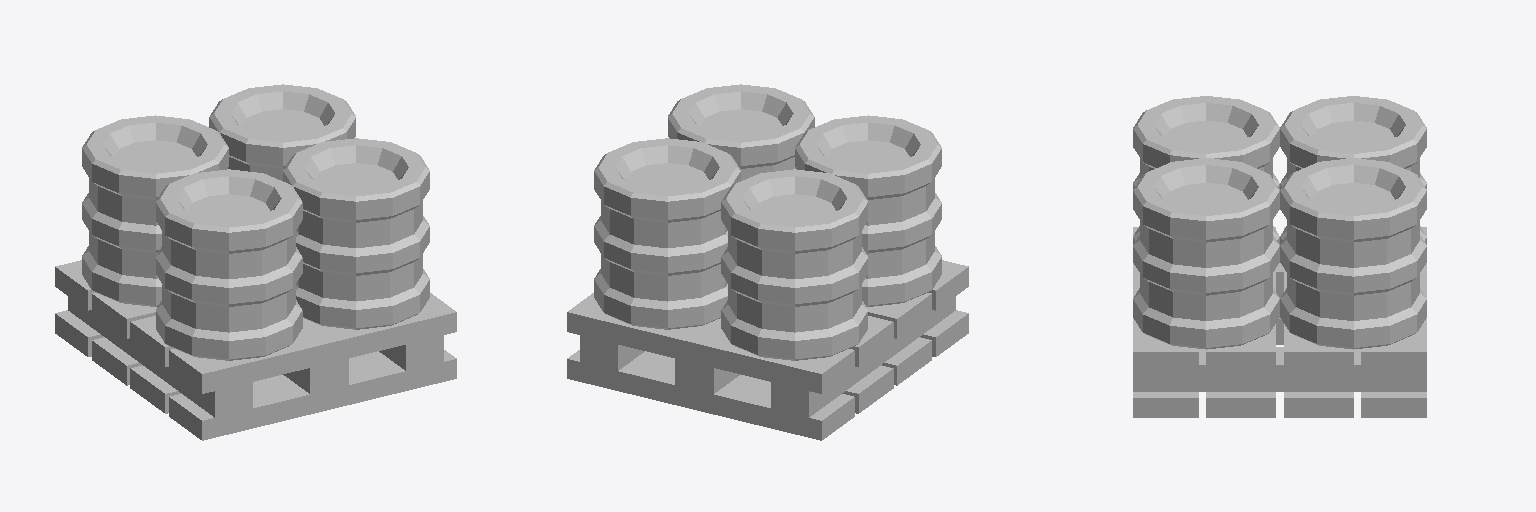
Rendered from Pallet_Small_Decorated_A.obj.
3 renders of one model, left to right at view 1: azimuth 30°, elevation 25°; view 2: azimuth 150°, elevation 25°; view 3: azimuth 270°, elevation 25°, orthographic.
Parts seen in each view (by area): view 1: Pallet_Small_Decorated_A_Cube.034; view 2: Pallet_Small_Decorated_A_Cube.034; view 3: Pallet_Small_Decorated_A_Cube.034.
Boxes of the visible parts, x1,y1,x2,y2 form: Pallet_Small_Decorated_A_Cube.034: [55, 84, 456, 440]; Pallet_Small_Decorated_A_Cube.034: [567, 84, 968, 440]; Pallet_Small_Decorated_A_Cube.034: [1133, 96, 1426, 417].
Size of the model in its own units: 2 by 1.5 by 2.